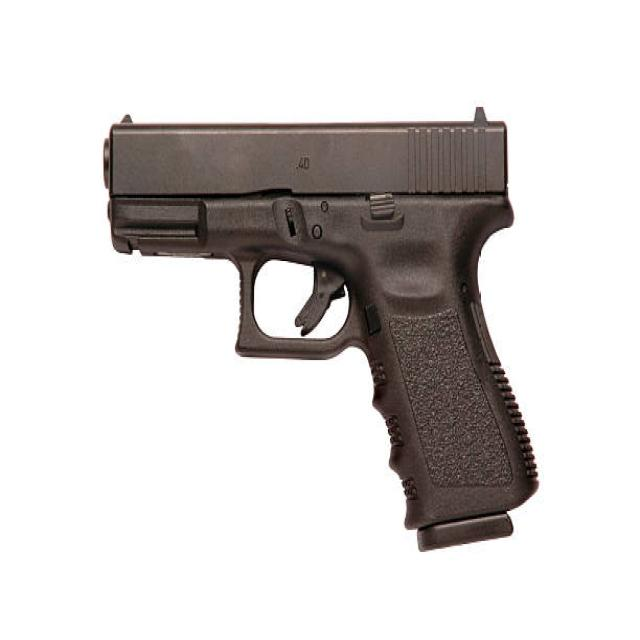pistol: (102, 98, 542, 561)
